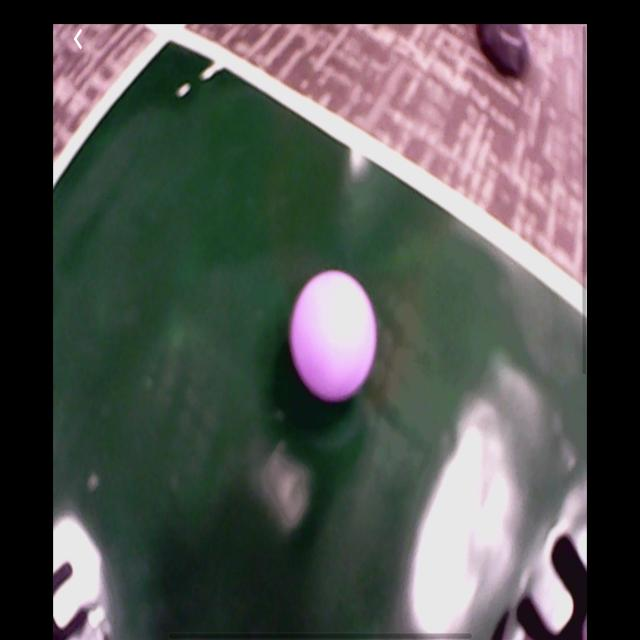ball: (291, 268, 378, 405)
